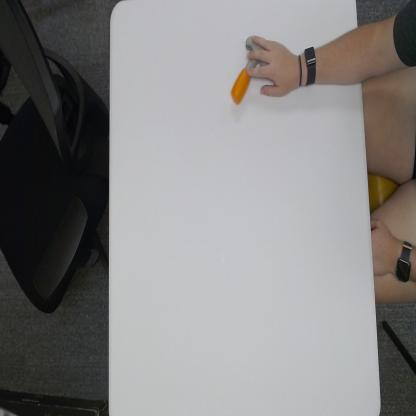Arm: (318, 29, 360, 87)
Hammer: (231, 31, 266, 106)
Hand: (248, 35, 300, 99)
